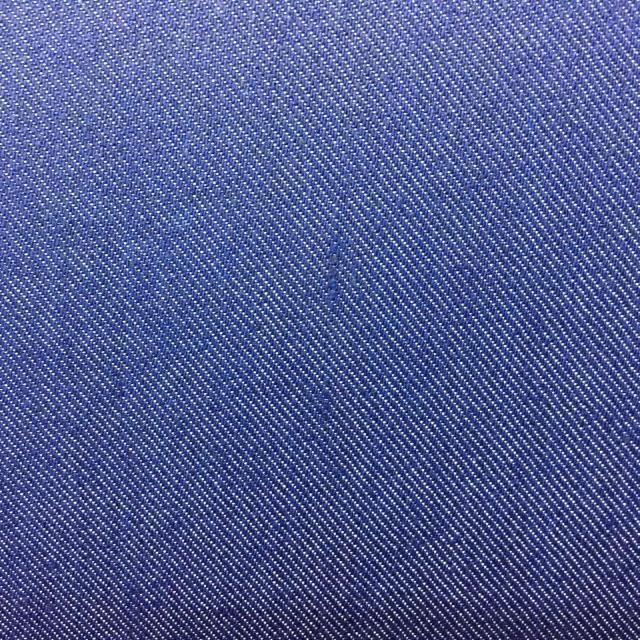Line: (310, 179, 343, 445)
